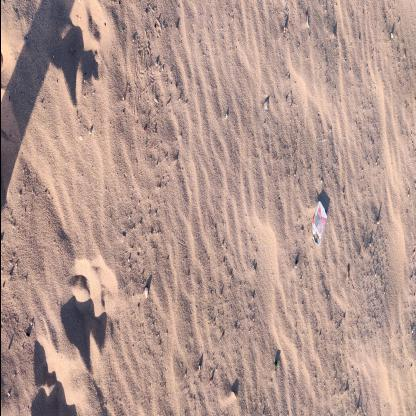karton: (312, 202, 328, 247)
